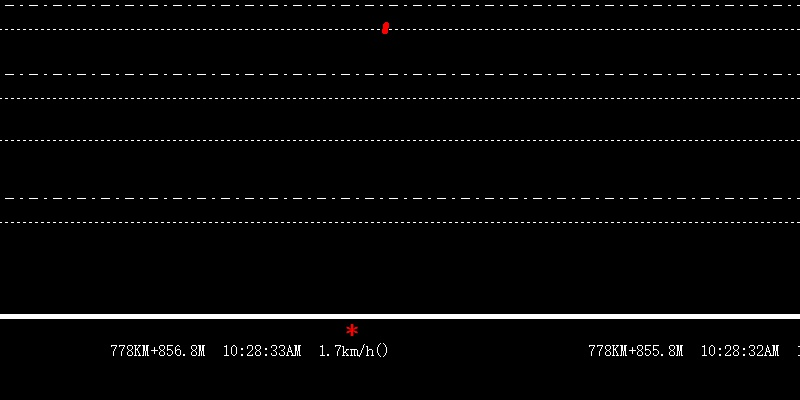face_1: (380, 21, 392, 36)
star: (342, 322, 361, 340)
